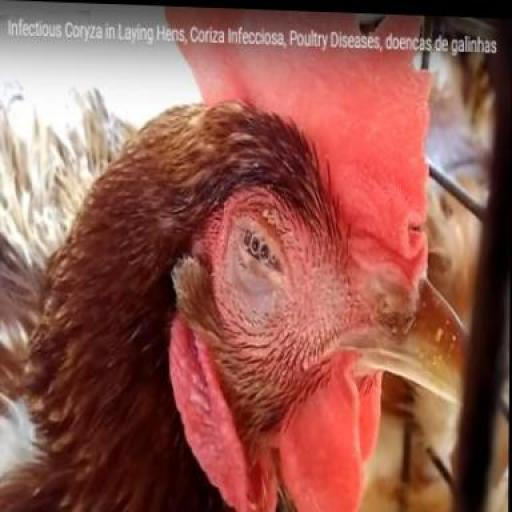disease: (202, 169, 332, 355)
